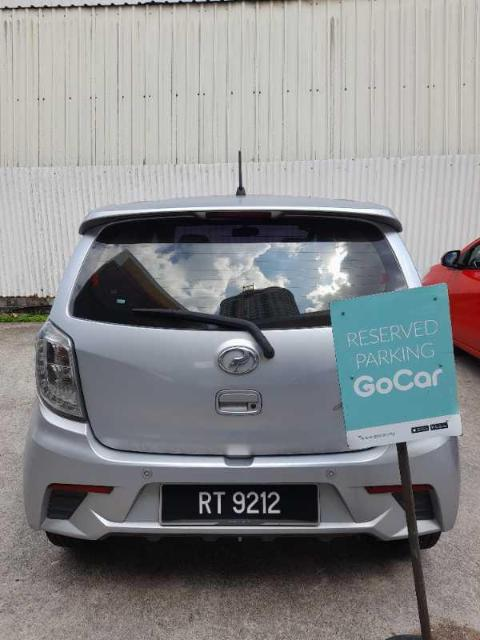License_Plate: (159, 483, 321, 527)
car: (24, 191, 464, 551)
